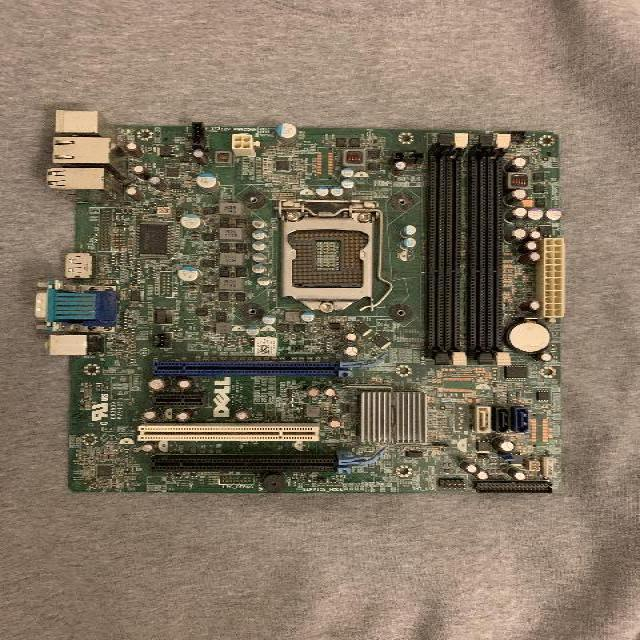Mainboard: (37, 108, 564, 496)
